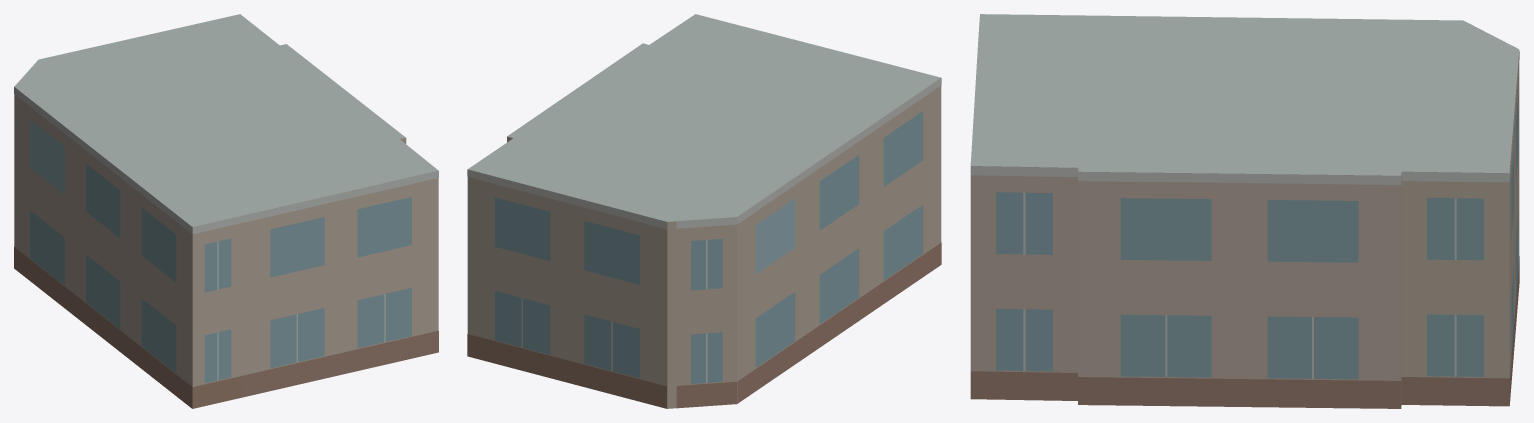
File: survey-upis-32664943.glb
3 views of the same model, side by side, from view 1: azimuth 30°, elevation 25°; view 2: azimuth 150°, elevation 25°; view 3: azimuth 270°, elevation 25° (orthographic). The views are drawn at different scales.
Parts seen in each view (by area): view 1: survey-upis-32664943.tmp; view 2: survey-upis-32664943.tmp; view 3: survey-upis-32664943.tmp.
Boxes of the visible parts, bbox=[...] form: survey-upis-32664943.tmp: bbox=[14, 14, 438, 408]; survey-upis-32664943.tmp: bbox=[467, 14, 941, 408]; survey-upis-32664943.tmp: bbox=[970, 14, 1519, 408].
Bounding box in the file's own units: 9.08 × 6.1 × 13.02.
